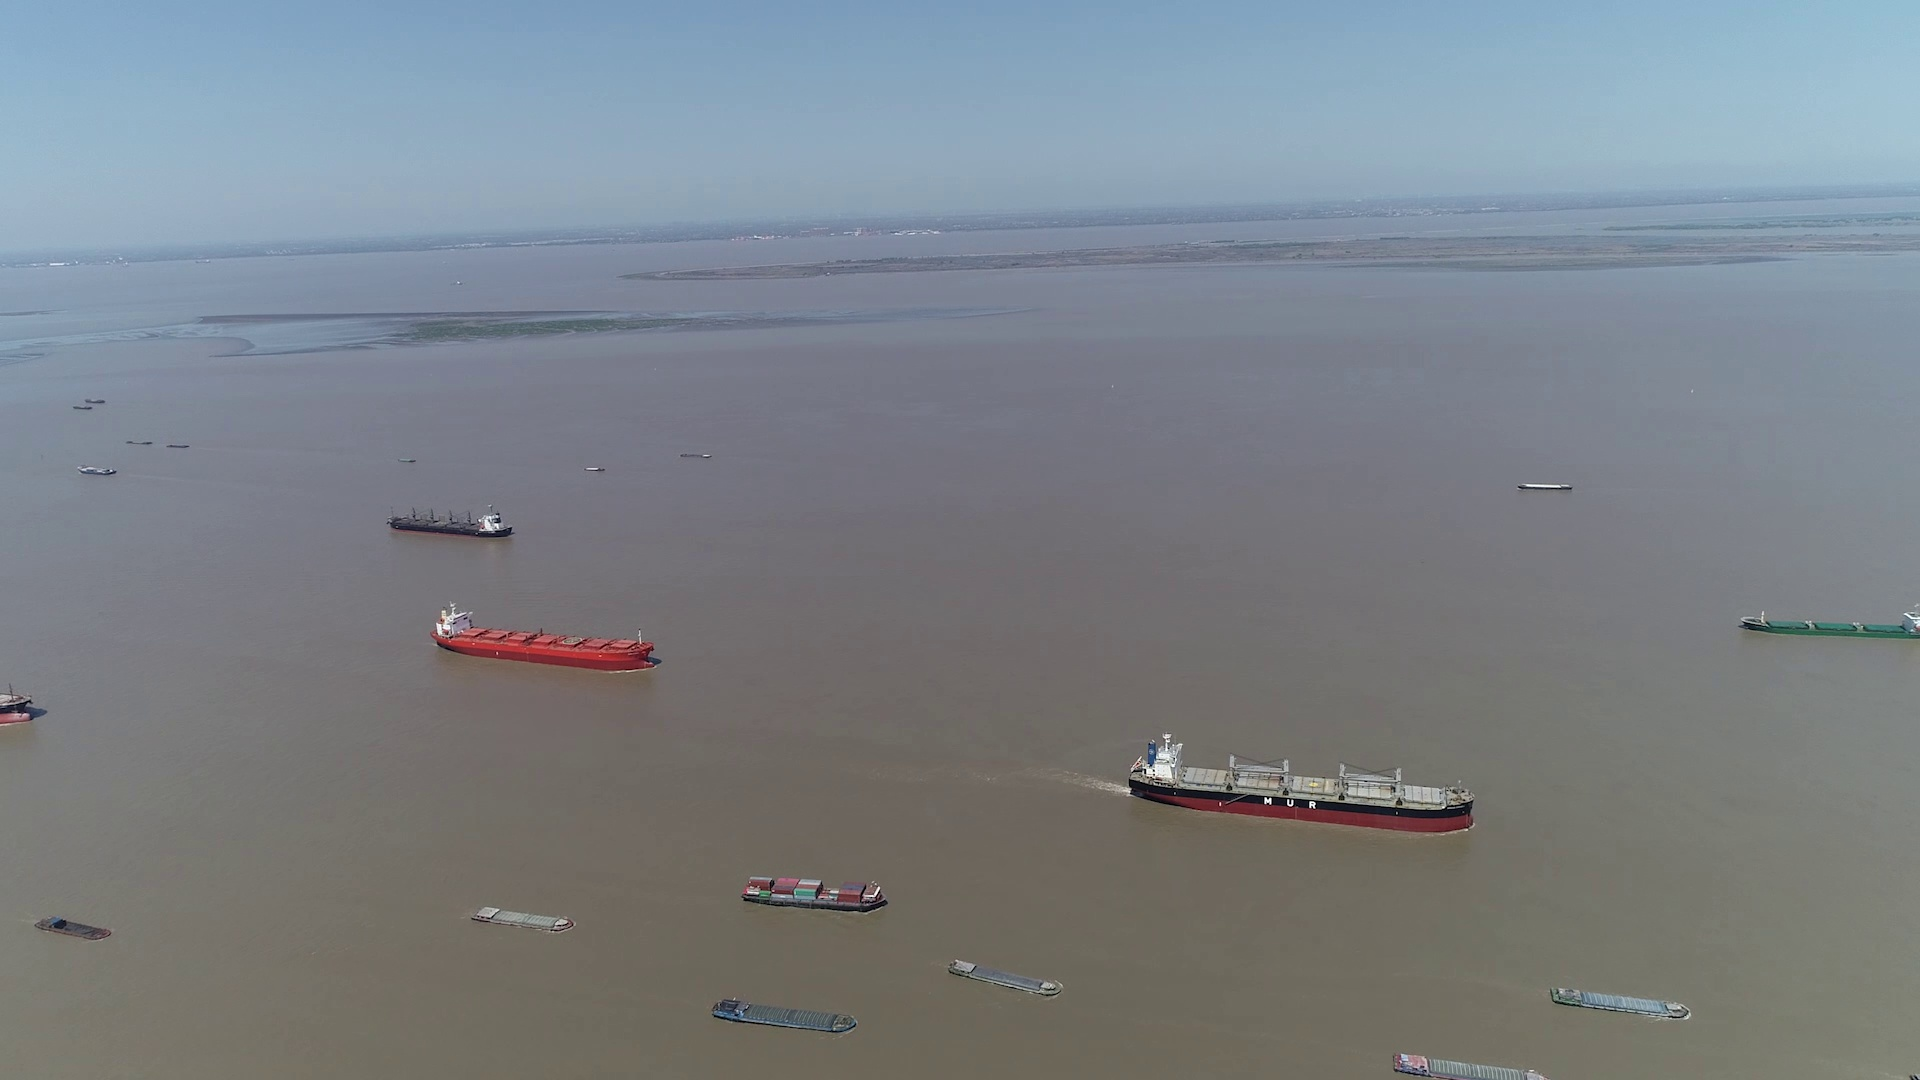ship: (1127, 737, 1476, 833), (434, 603, 655, 671), (1741, 608, 1919, 640), (709, 1000, 858, 1036), (1549, 985, 1693, 1022), (742, 877, 889, 913), (949, 960, 1063, 998), (1393, 1051, 1545, 1079), (386, 505, 514, 538), (468, 905, 575, 931), (0, 682, 41, 729), (36, 915, 113, 939), (1516, 481, 1572, 492), (78, 464, 120, 476), (680, 452, 713, 459)
